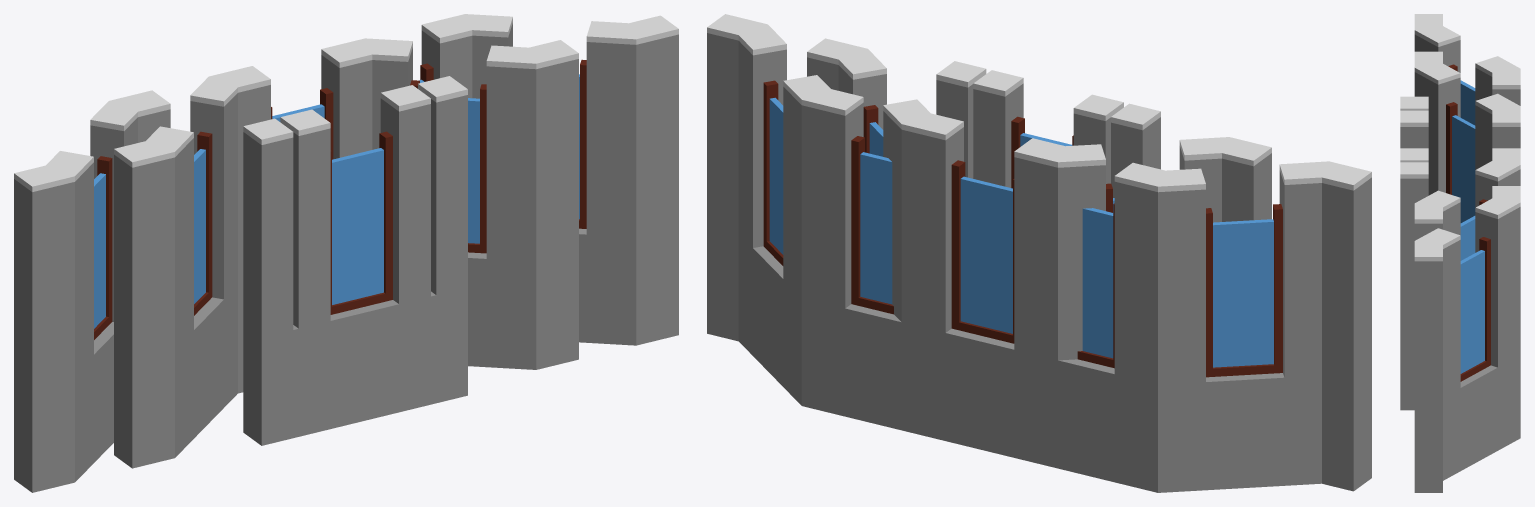
Rendered from Whalls Window.fbx.
3 renders of one model, left to right at view 1: azimuth 30°, elevation 25°; view 2: azimuth 150°, elevation 25°; view 3: azimuth 270°, elevation 25°, orthographic. The views are drawn at different scales.
Parts seen in each view (by area): view 1: Window Cave Small, Window Cave Big, Window Big, Window Small; view 2: Window Cave Big, Window Cave Small, Window Small, Window Big; view 3: Window Cave Big, Window Cave Small, Window Big, Window Small.
Part boxes in pixels (x1=…): Window Cave Small: x1=114, y1=38, x2=578, y2=468; Window Cave Big: x1=14, y1=14, x2=678, y2=492; Window Big: x1=243, y1=76, x2=467, y2=445; Window Small: x1=280, y1=85, x2=430, y2=417; Window Cave Big: x1=707, y1=14, x2=1371, y2=492; Window Cave Small: x1=807, y1=38, x2=1271, y2=468; Window Small: x1=973, y1=70, x2=1123, y2=188; Window Big: x1=936, y1=61, x2=1160, y2=197; Window Cave Big: x1=1414, y1=14, x2=1520, y2=492; Window Cave Small: x1=1414, y1=51, x2=1520, y2=260; Window Big: x1=1400, y1=96, x2=1428, y2=410; Window Small: x1=1400, y1=110, x2=1428, y2=162.
Size of the model in its own units: 8.15 by 3.69 by 1.7.
